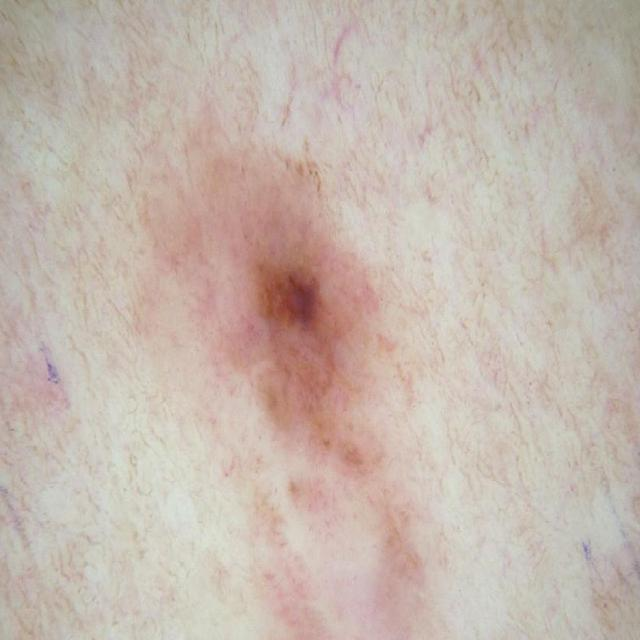Melanoma: (193, 143, 420, 444)
